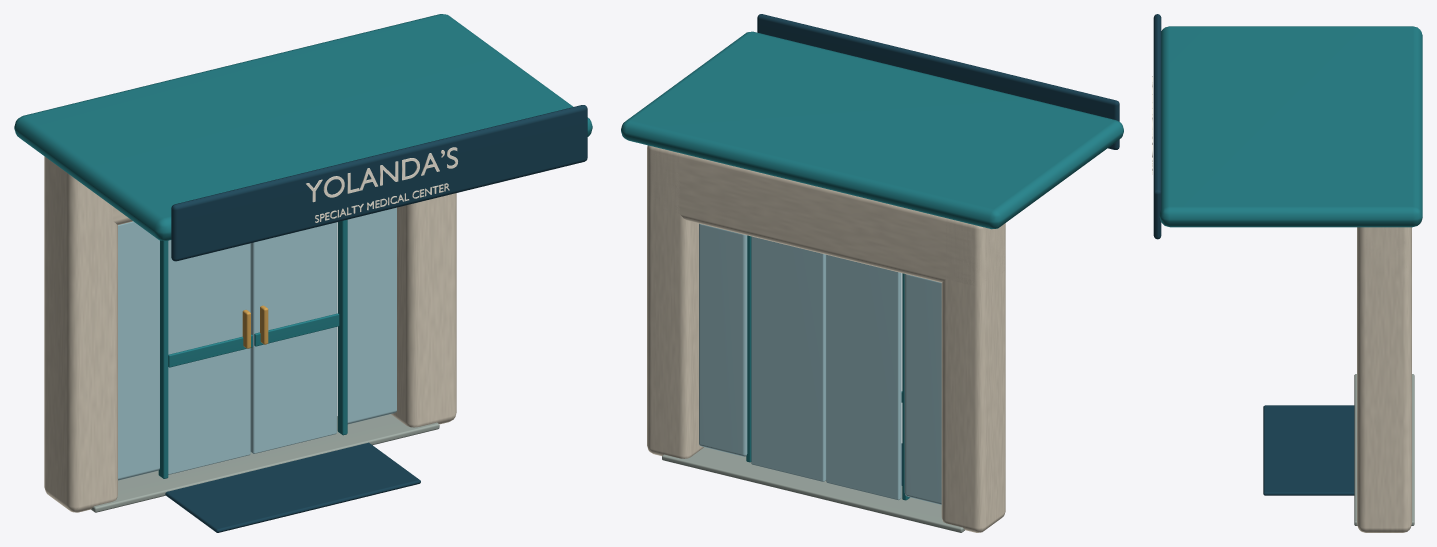
Rendered from entrance.glb.
3 views of the same model, side by side, from view 1: azimuth 30°, elevation 25°; view 2: azimuth 150°, elevation 25°; view 3: azimuth 270°, elevation 25° (orthographic). The views are drawn at different scales.
Parts seen in each view (by area): view 1: Entrance canopy, Limestone pier, Navy sign, Door glass.001, Door glass, Limestone pier.001, Welcome mat, Fixed side glazing, Fixed side glazing.001, Threshold, Glazing mullion.002, Glazing mullion.001 (+4 smaller); view 2: Entrance canopy, Lintel, Limestone pier, Door glass, Door glass.001, Limestone pier.001, Fixed side glazing.001, Fixed side glazing, Navy sign, Threshold, Glazing mullion.002, Glazing mullion.001; view 3: Entrance canopy, Limestone pier.001, Welcome mat, Navy sign, Threshold, Lintel.
Boxes of the visible parts, bbox=[...] form: Entrance canopy: bbox=[14, 14, 592, 240]; Limestone pier: bbox=[44, 156, 117, 512]; Navy sign: bbox=[171, 105, 587, 261]; Door glass.001: bbox=[250, 222, 336, 453]; Door glass: bbox=[168, 240, 250, 474]; Limestone pier.001: bbox=[391, 193, 456, 427]; Welcome mat: bbox=[165, 442, 420, 532]; Fixed side glazing: bbox=[118, 221, 159, 480]; Fixed side glazing.001: bbox=[347, 207, 396, 424]; Threshold: bbox=[91, 414, 439, 512]; Glazing mullion.002: bbox=[337, 219, 347, 435]; Glazing mullion.001: bbox=[158, 240, 168, 478]; Entrance canopy: bbox=[621, 31, 1123, 229]; Lintel: bbox=[648, 148, 1005, 285]; Limestone pier: bbox=[941, 218, 1005, 532]; Door glass: bbox=[826, 255, 901, 500]; Door glass.001: bbox=[751, 236, 826, 481]; Limestone pier.001: bbox=[647, 145, 703, 458]; Fixed side glazing.001: bbox=[699, 223, 747, 456]; Fixed side glazing: bbox=[904, 274, 941, 504]; Navy sign: bbox=[757, 14, 1119, 149]; Threshold: bbox=[662, 447, 964, 532]; Glazing mullion.002: bbox=[746, 235, 751, 462]; Glazing mullion.001: bbox=[902, 273, 909, 500]; Entrance canopy: bbox=[1159, 26, 1422, 227]; Limestone pier.001: bbox=[1357, 227, 1411, 532]; Welcome mat: bbox=[1263, 405, 1354, 495]; Navy sign: bbox=[1153, 14, 1161, 239]; Threshold: bbox=[1354, 374, 1414, 525]; Lintel: bbox=[1359, 227, 1411, 282].
Size of the model in its own units: 4.05 by 3.53 by 2.47.
Materials: 7 (1 with a texture image).
